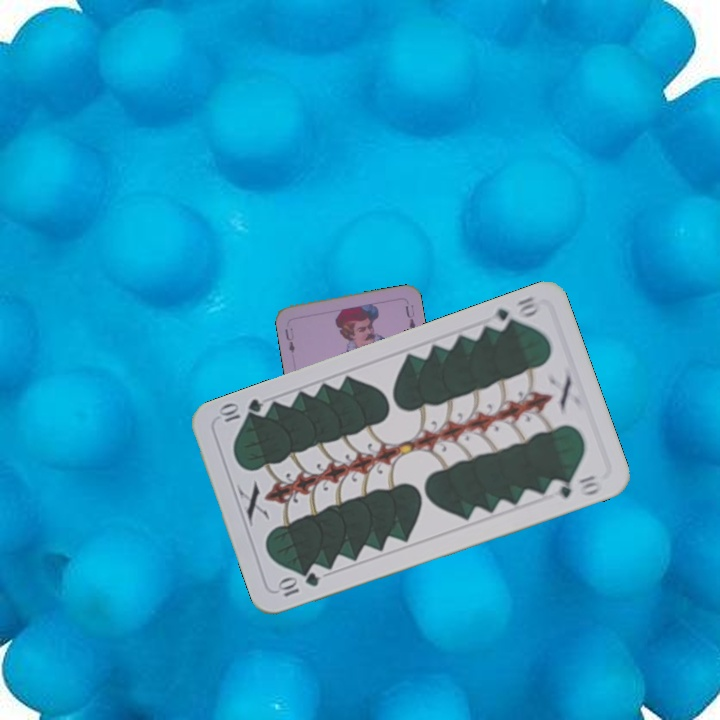EU: (281, 324, 297, 359)
G10: (484, 292, 543, 334), (274, 568, 323, 600)
